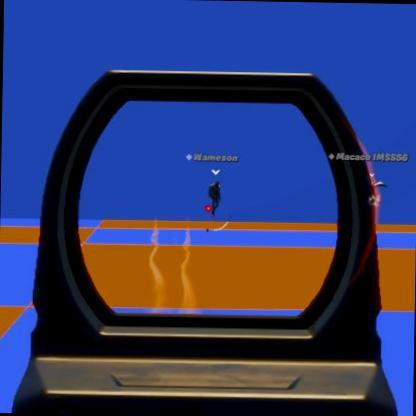person: (208, 180, 223, 216)
